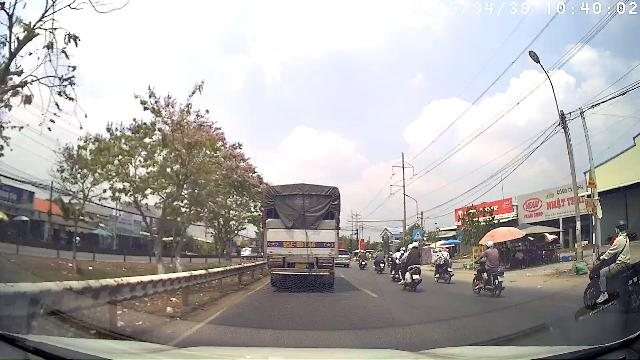423a-duong-nguoi-di-bo-sang-ngang-1: (413, 230, 423, 240)
